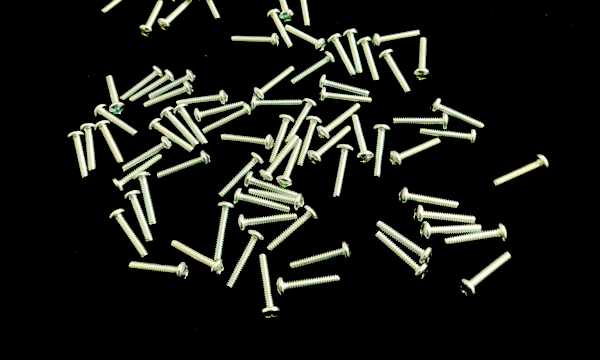longscrew: (373, 229, 431, 282), (457, 251, 514, 300), (265, 205, 321, 253), (376, 220, 434, 266), (226, 230, 265, 291), (169, 239, 226, 279), (108, 208, 151, 261), (111, 153, 166, 194), (218, 152, 265, 199), (491, 155, 552, 189), (289, 241, 355, 272), (259, 134, 301, 182), (307, 124, 353, 167), (121, 136, 174, 173), (429, 97, 486, 131), (123, 189, 157, 246), (257, 253, 284, 321), (378, 47, 414, 98), (316, 102, 362, 141), (389, 137, 443, 170), (156, 149, 213, 180), (148, 117, 195, 154), (160, 106, 201, 148), (244, 170, 303, 199), (202, 102, 255, 134), (290, 51, 337, 87), (93, 104, 141, 139), (283, 98, 319, 144), (232, 187, 291, 215), (213, 201, 237, 269), (120, 66, 165, 102), (172, 104, 210, 146), (247, 186, 306, 213), (146, 69, 199, 99), (443, 223, 509, 247), (127, 260, 191, 284), (128, 70, 176, 102), (252, 65, 297, 99), (276, 274, 342, 297), (296, 115, 324, 169), (133, 171, 159, 229), (398, 186, 460, 210), (94, 120, 125, 168), (142, 81, 195, 109), (267, 115, 296, 165), (331, 143, 356, 199), (327, 33, 357, 79), (419, 221, 484, 242), (284, 22, 328, 53), (276, 139, 304, 187), (412, 205, 478, 225), (318, 74, 371, 98), (157, 0, 194, 34), (66, 130, 91, 180), (266, 8, 295, 51), (193, 100, 247, 123), (418, 126, 480, 146), (357, 35, 382, 84), (238, 212, 299, 232), (372, 123, 393, 181), (351, 114, 375, 164), (391, 112, 451, 131), (319, 86, 373, 107), (342, 28, 365, 76), (138, 0, 165, 40), (372, 27, 422, 48), (249, 94, 303, 113), (219, 133, 274, 151), (176, 89, 230, 107), (80, 122, 98, 175), (104, 75, 126, 116), (413, 36, 432, 83), (230, 32, 281, 48), (196, 0, 223, 23), (100, 0, 141, 15), (294, 0, 313, 29), (275, 0, 296, 24), (171, 0, 216, 4), (162, 0, 204, 2)
